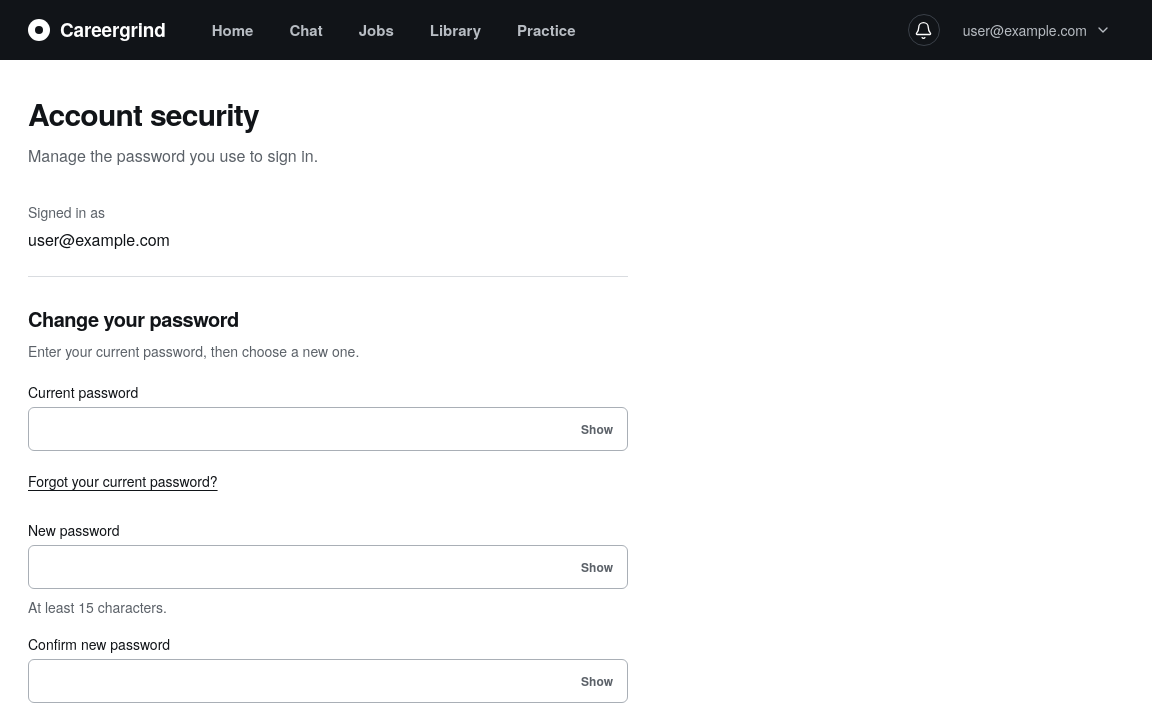
clears an expired account session and shows a sign-in notice after change returns 401
Step 1. Type "old password" into the password field labelled "Current password" → coordinates (328, 429), box top-left (28, 407), bottom-right (628, 451)
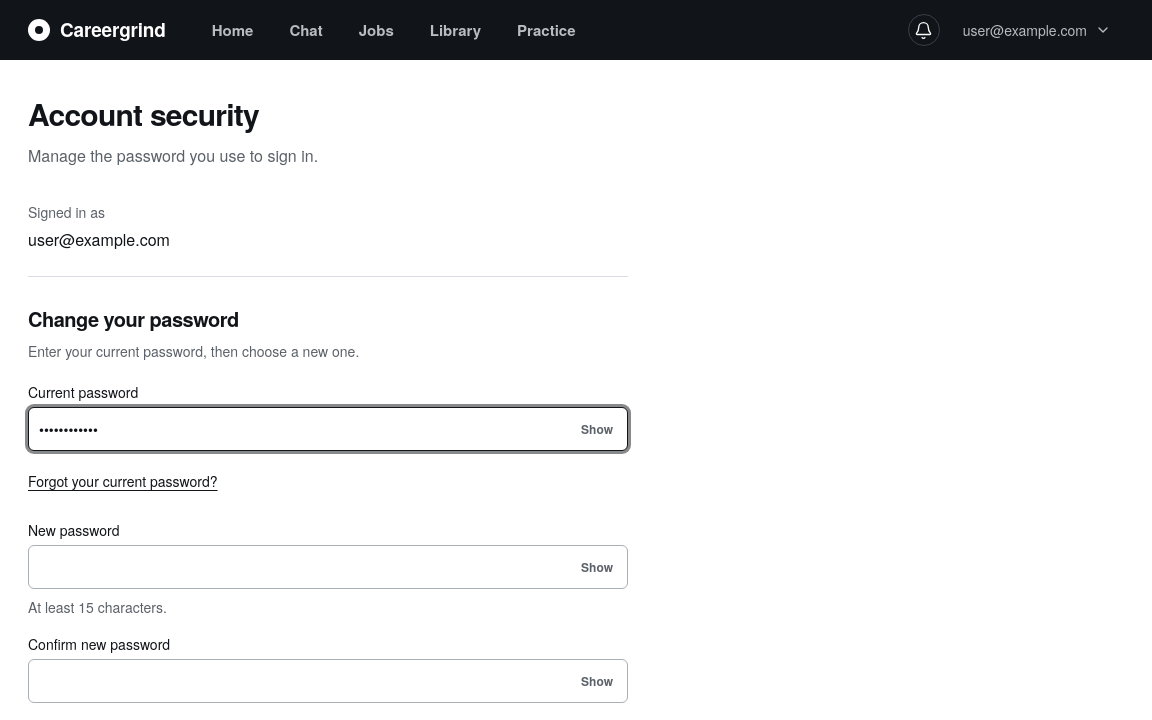
Step 2. Type "a quiet orchard after rain" into the password field labelled "New password" → coordinates (328, 567), box top-left (28, 545), bottom-right (628, 589)
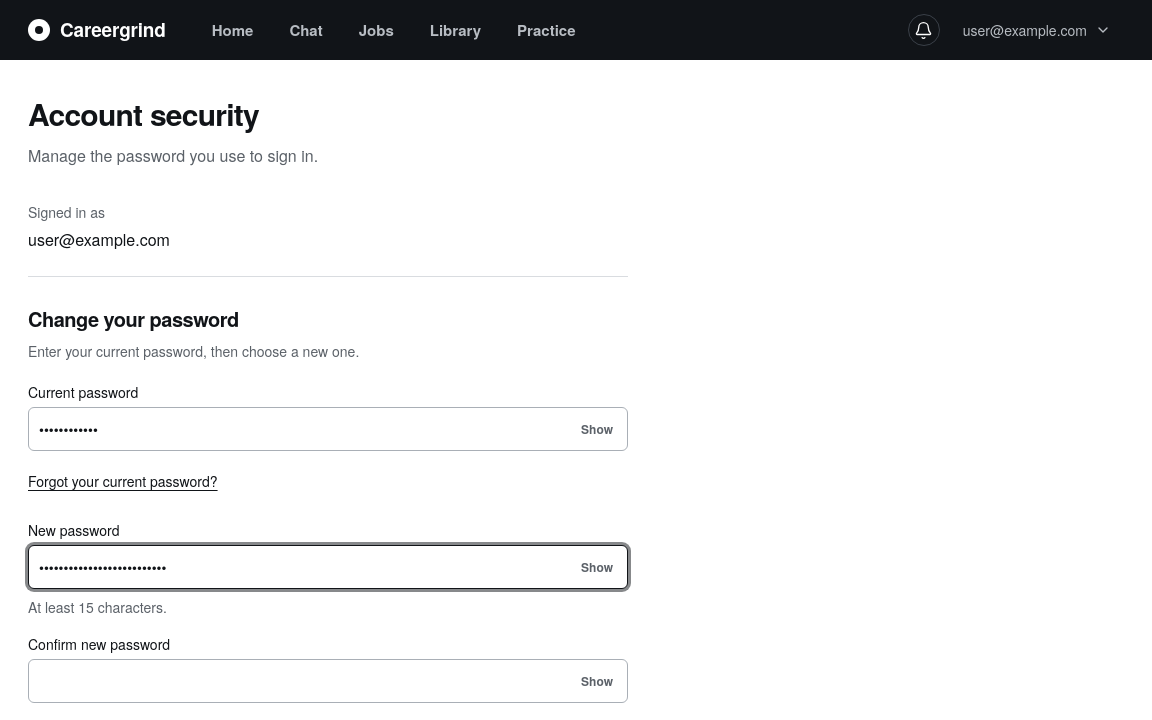
Step 3. Type "a quiet orchard after rain" into the password field labelled "Confirm new password" → coordinates (328, 681), box top-left (28, 659), bottom-right (628, 703)
(page scrolled)
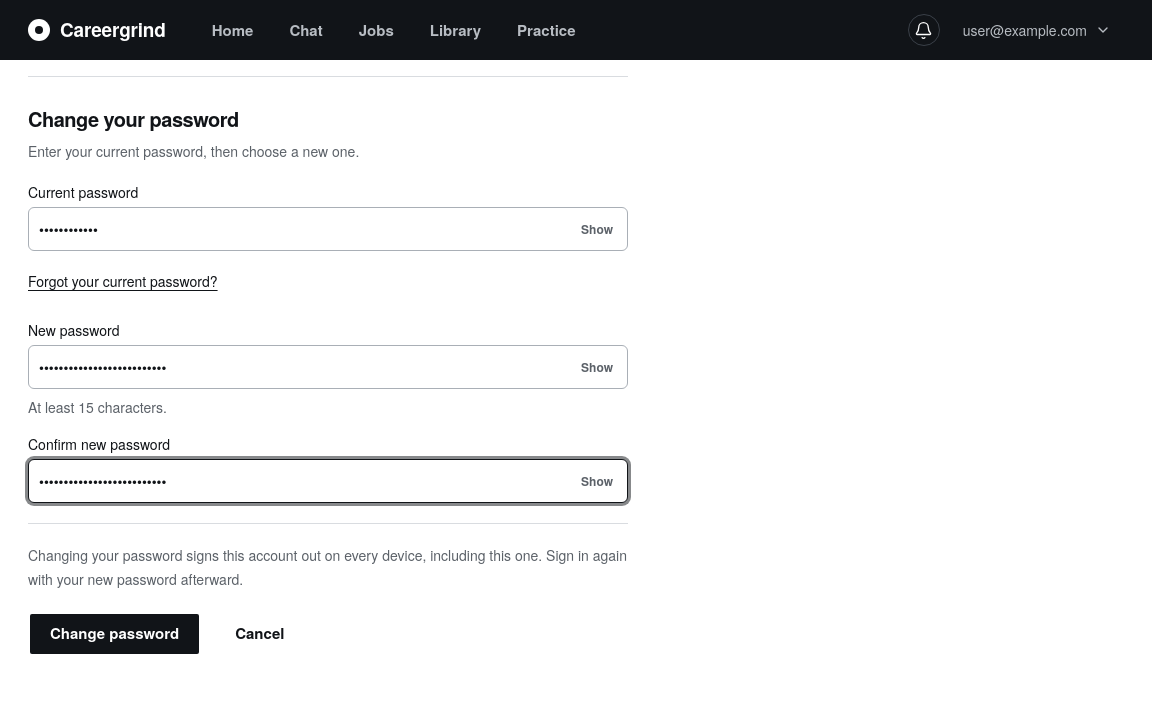
Step 4. Click the button "Change password" → coordinates (115, 634), box top-left (28, 612), bottom-right (201, 656)
(page scrolled)
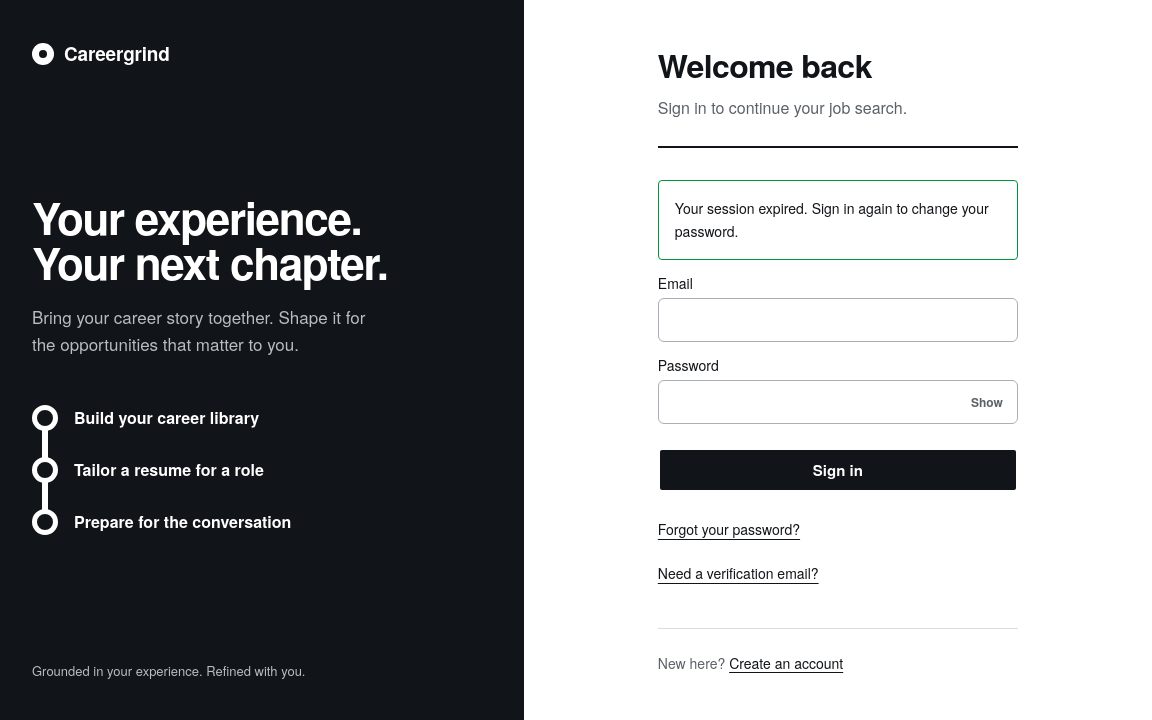
Expected: the text "Your session expired. Sign in again to change your password." is shown, top-left (658, 180), bottom-right (1018, 260)
Expected: the button "Sign in" is shown, top-left (658, 448), bottom-right (1018, 492)
